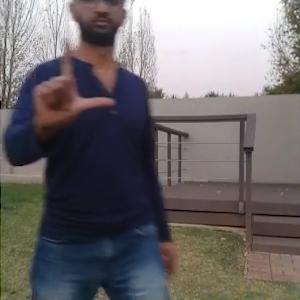land_hand: (29, 28, 118, 139)
